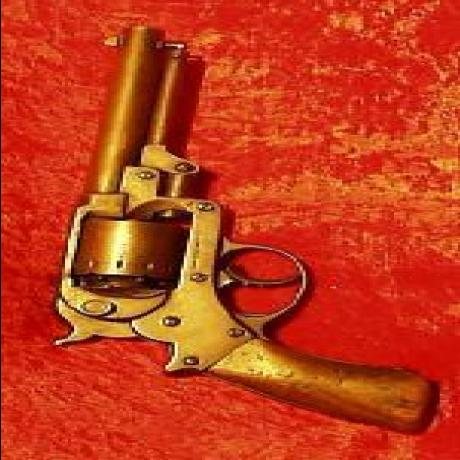weapon: (42, 24, 448, 438)
